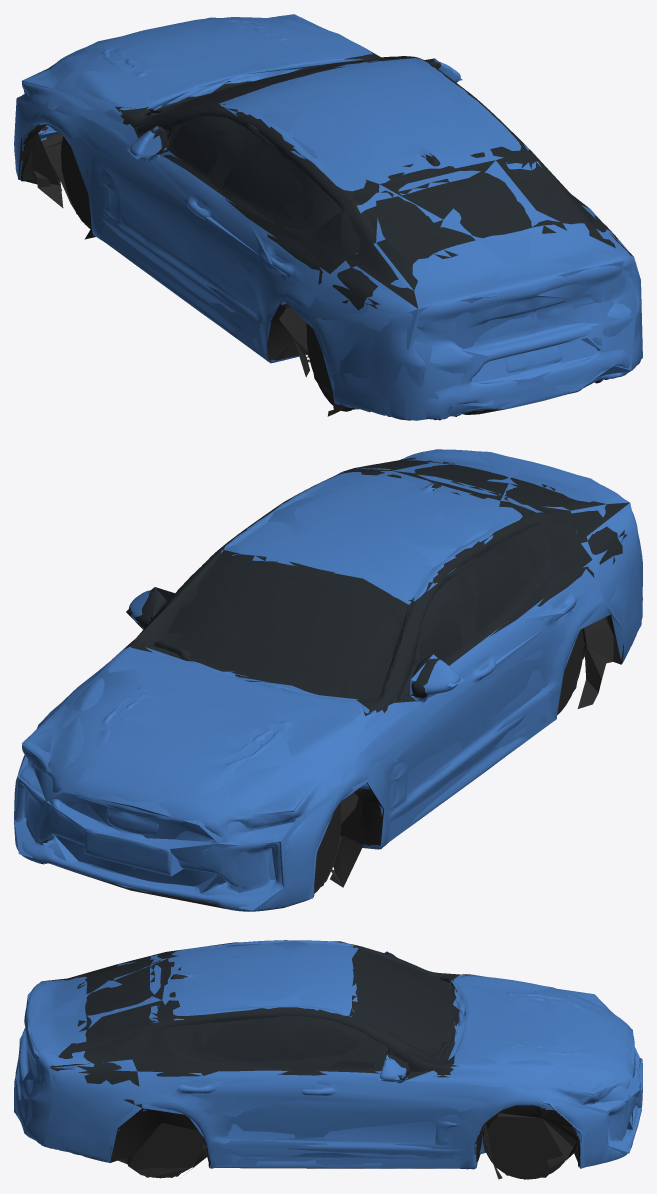
File: kia-stinger.glb
The picture shows the model from 3 angles, top to bottom: view 1: azimuth 30°, elevation 25°; view 2: azimuth 150°, elevation 25°; view 3: azimuth 270°, elevation 25°; orthographic projection. The views are drawn at different scales.
Parts seen in each view (by area): view 1: body, far; view 2: body, far; view 3: body, far.
Part boxes in pixels (x1,y1,x2,y2): body: [14, 14, 641, 420]; far: [14, 14, 642, 420]; body: [14, 449, 642, 911]; far: [14, 449, 642, 910]; body: [14, 940, 642, 1179]; far: [14, 941, 641, 1179].
Size of the model in its own units: 2.2 by 1.44 by 4.85.
